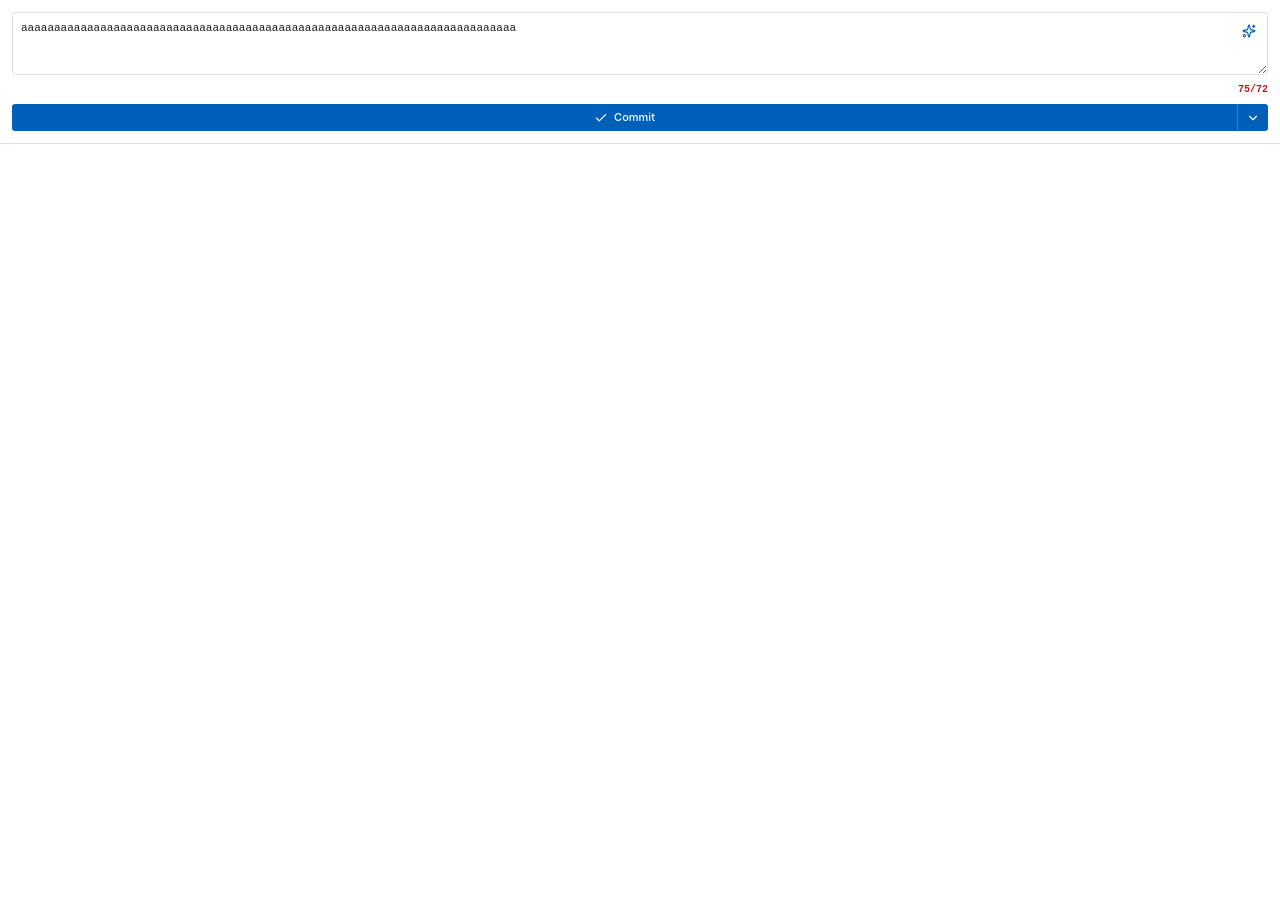
Test: SourceControlView & CommitBox › prompts smart commit dialog when committing with no staged changes
This screenshot has width=1280, height=900.
Replace the text in the text box with placeholder "Message (Cmd+Enter to commit)" with "feat: smart commit test": coordinates (640, 44) [12,12,1268,75]
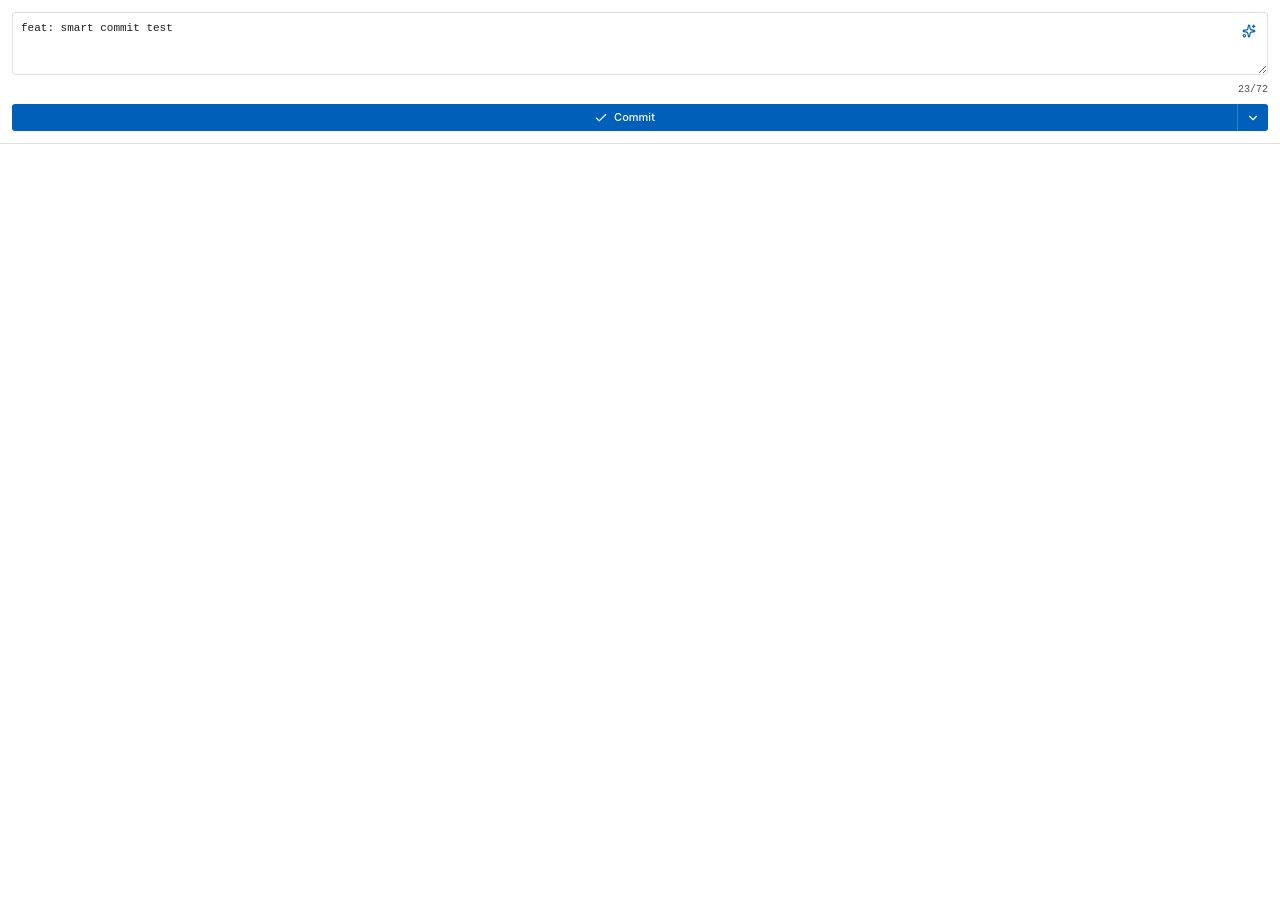
Click the button "Commit": coordinates (624, 118) [12,104,1237,131]
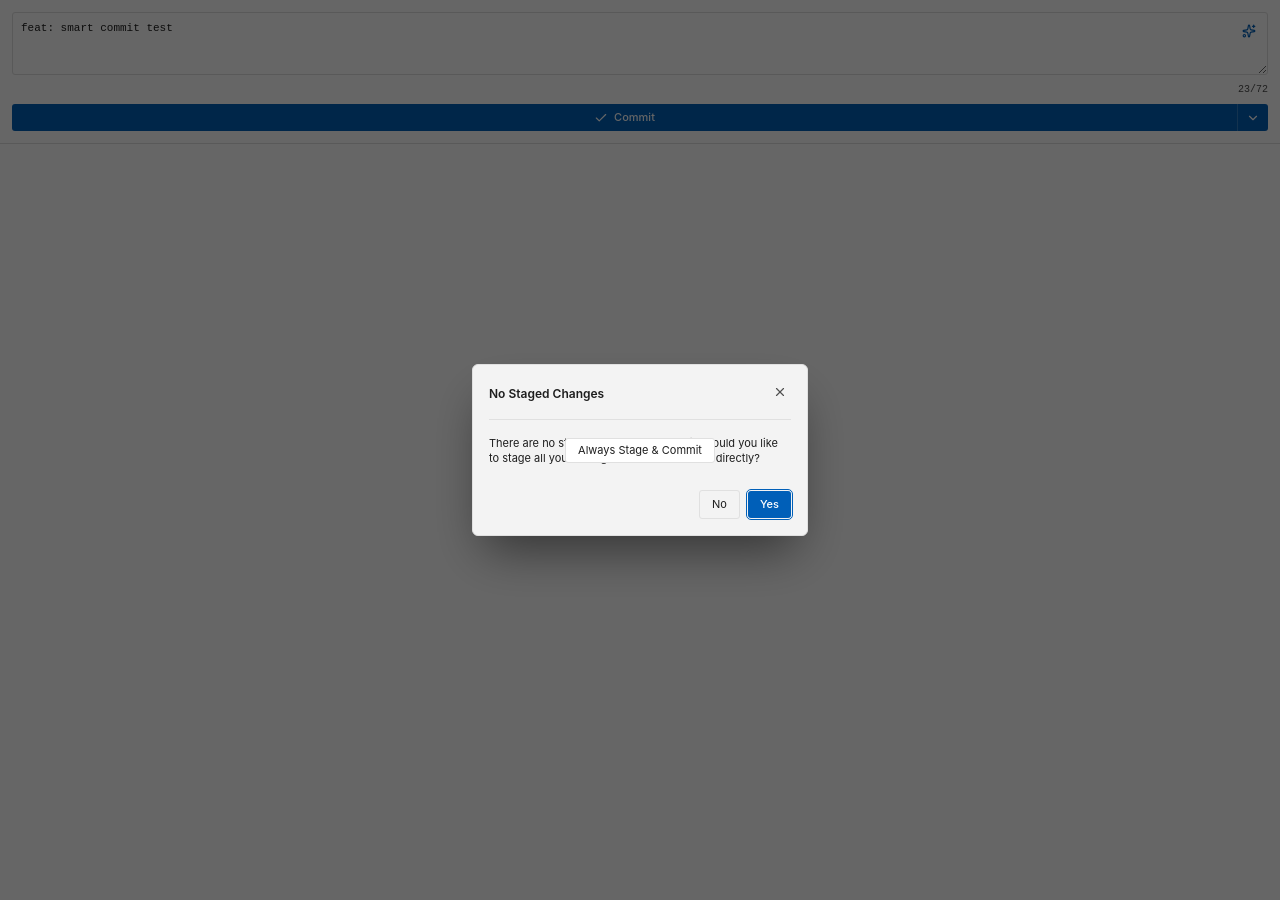
Expected: the heading "No Staged Changes" is shown, [489,386,604,402]
Expected: the text "Would you like to stage all your changes and commit them directly?" is shown, [489,436,781,465]
